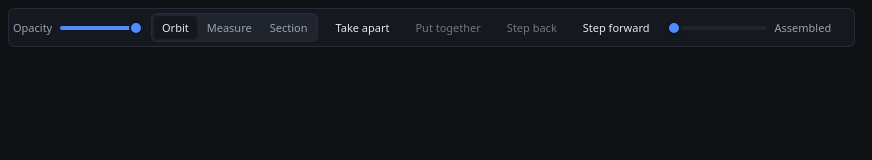
Test: the assembly control › steps one joint at a time, and says which joint it is on
Click the button "Step forward": [616, 28] box x1=574 y1=15 x2=658 y2=40
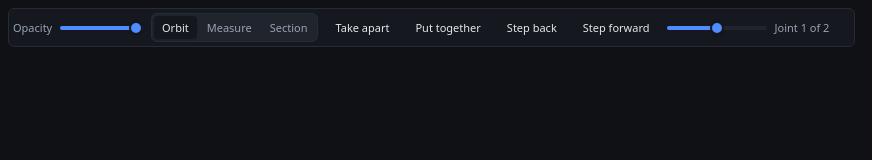
Result: the text "Joint 1 of 2" is shown at x1=774 y1=20 x2=829 y2=35
Click the button "Step back": [532, 28] box x1=498 y1=15 x2=566 y2=40
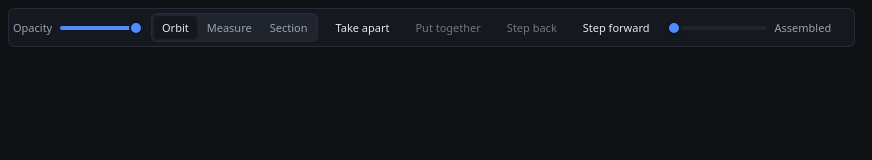
Result: the text "Assembled" is shown at x1=774 y1=20 x2=831 y2=35
